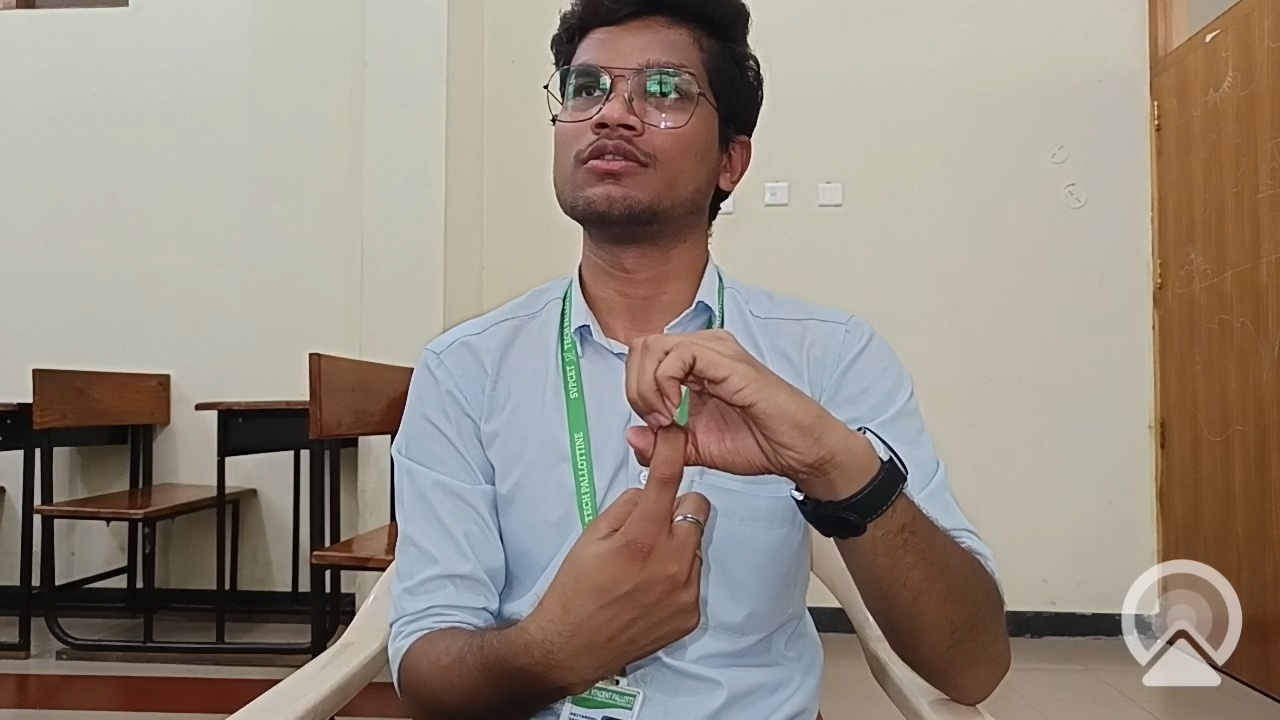Q: (524, 266, 889, 667)
